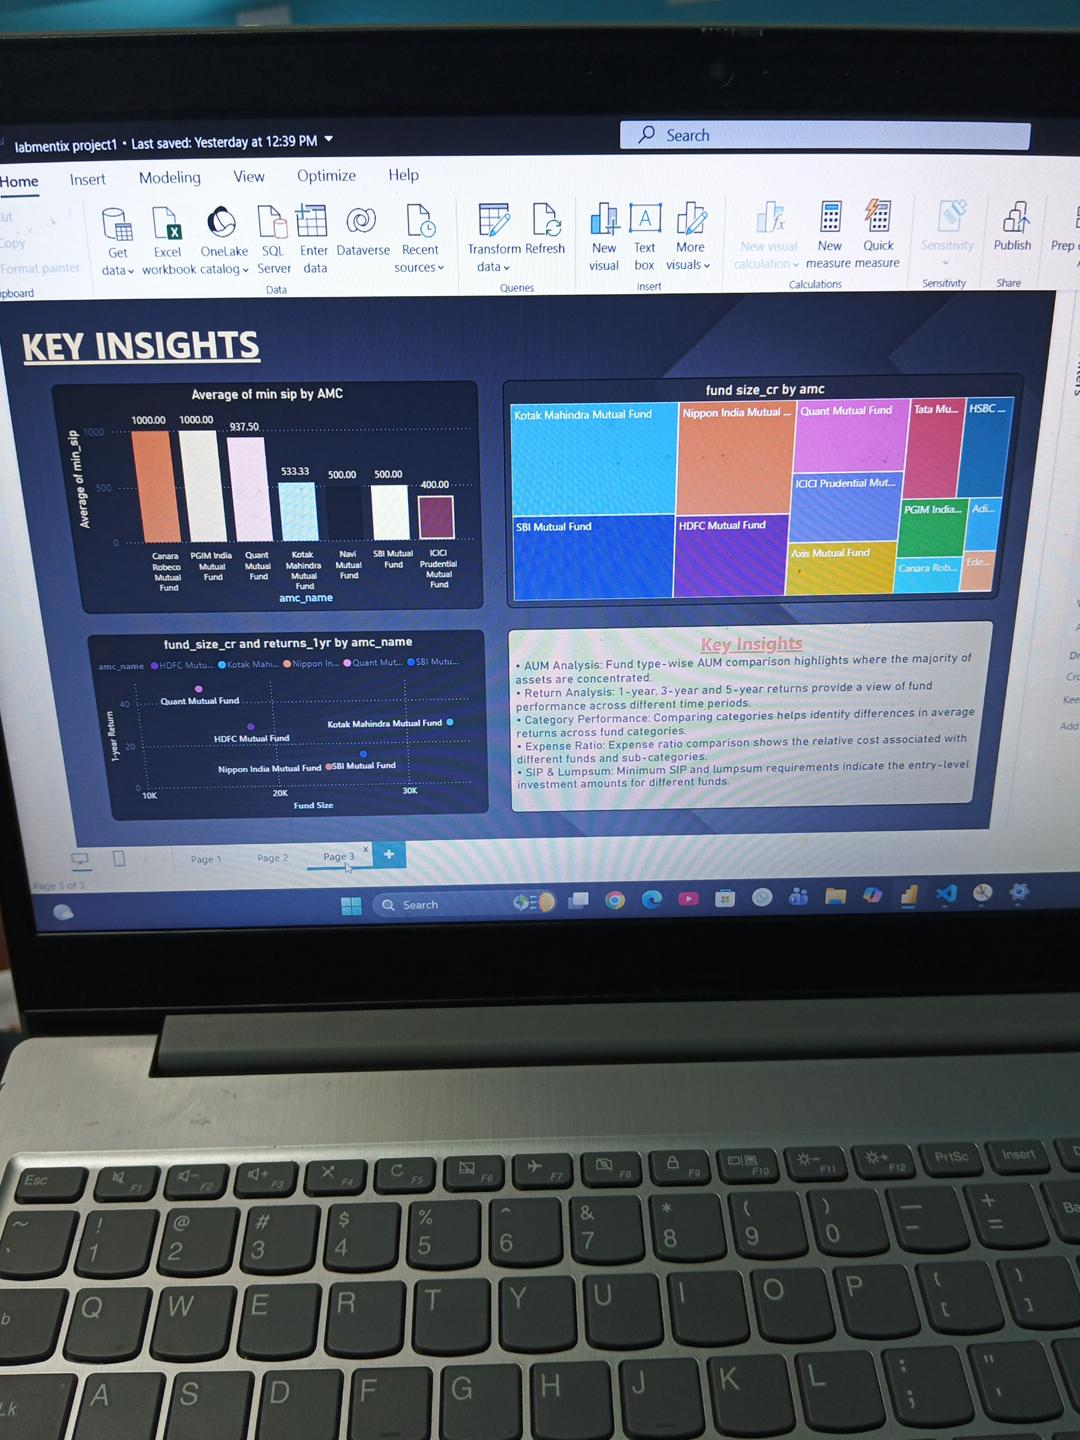

The page's visual inventory and layout, read from the dashboard file:
{"tool":"powerbi","page":{"name":"Page 3","canvas":[1280,720],"ordinal":2},"visuals":[{"type":"lineStackedColumnComboChart","title":"Average of min sip by AMC","fields":{"Category":["Sheet1.amc_name"],"Y":["Avg(Sheet1.min_sip)"]},"box":[54.3,97.7,518.8,288.3],"z":0},{"type":"scatterChart","title":"fund_size_cr and returns_1yr by amc_name","fields":{"X":["Sum(Sheet1.fund_size_cr)"],"Y":["Sum(Sheet1.returns_1yr)"],"Series":["Sheet1.amc_name"]},"box":[54.3,413.8,518.8,266.6],"z":1000},{"type":"treemap","title":"fund size_cr by amc","fields":{"Values":["Sum(Sheet1.fund_size_cr)"],"Group":["Sheet1.amc_name"]},"box":[631,97.7,649.1,288.3],"z":2000},{"type":"textbox","box":[603.2,413.8,649.1,266.6],"z":3000},{"type":"textbox","box":[0,16.9,336.6,80.8],"z":4000}]}

Visuals, with their boxes on the page's 1280x720 design canvas (x1, y1, x2, y2). These are canvas units, not pixel positions in the 1080x1440 screenshot, which may show the page scaled, cropped or inside an application window:
"Average of min sip by AMC" lineStackedColumnComboChart: 54 98 573 386
"fund_size_cr and returns_1yr by amc_name" scatterChart: 54 414 573 680
"fund size_cr by amc" treemap: 631 98 1280 386
textbox: 603 414 1252 680
textbox: 0 17 337 98
